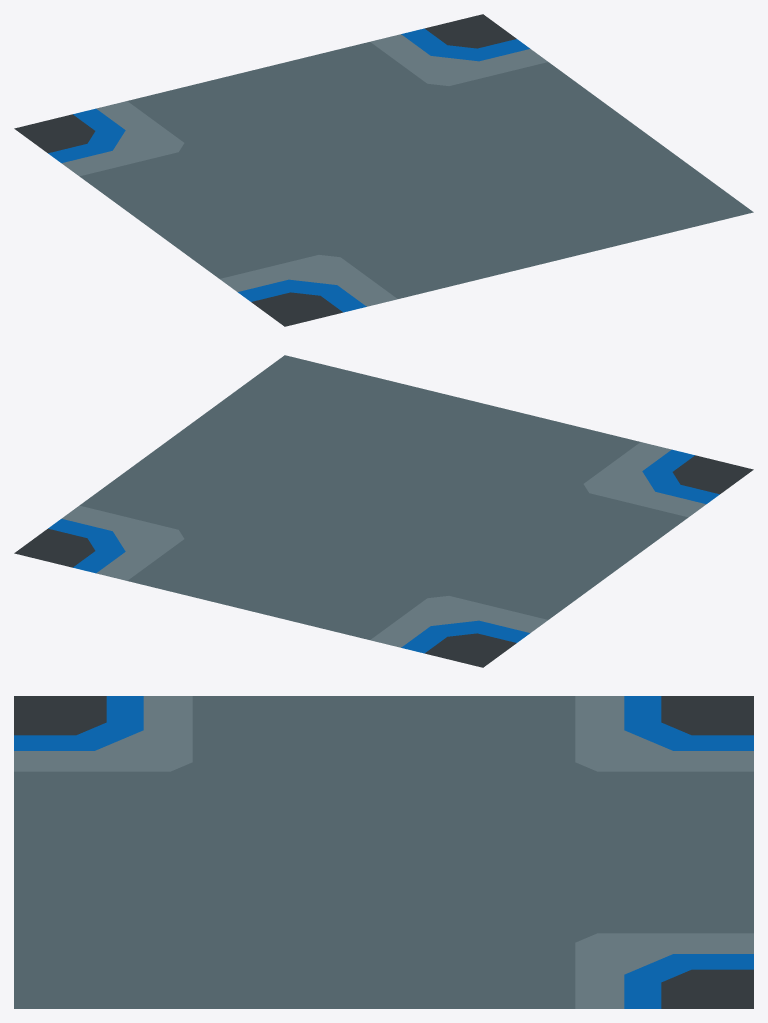
The model's file is Ceiling_type_C_006.fbx.
The picture shows the model from 3 angles, top to bottom: view 1: azimuth 30°, elevation 25°; view 2: azimuth 150°, elevation 25°; view 3: azimuth 270°, elevation 25°; orthographic projection. The views are drawn at different scales.
Visible parts, largest first — view 1: Ceiling_type_C_006; view 2: Ceiling_type_C_006; view 3: Ceiling_type_C_006.
Part boxes in pixels (x1,y1,x2,y2): Ceiling_type_C_006: (14, 14, 753, 326); Ceiling_type_C_006: (14, 355, 753, 667); Ceiling_type_C_006: (14, 696, 753, 1008).
Bounding box in the file's own units: 400 × 400 × 4.55.
